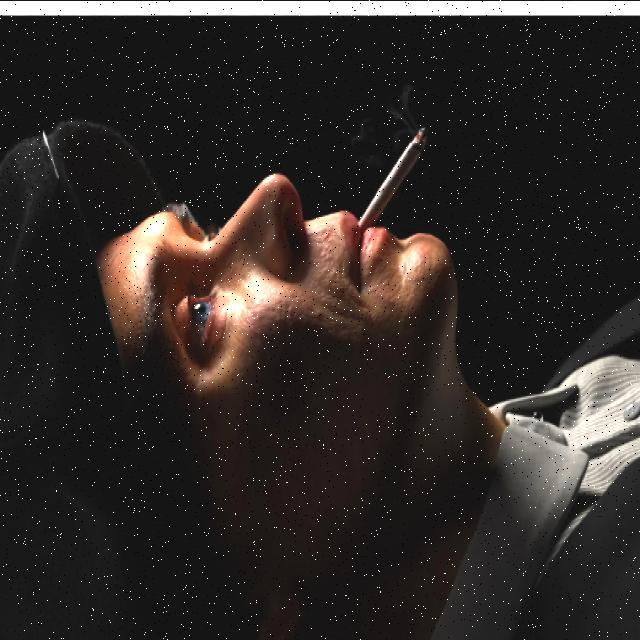face_no_mask: (84, 164, 469, 434)
